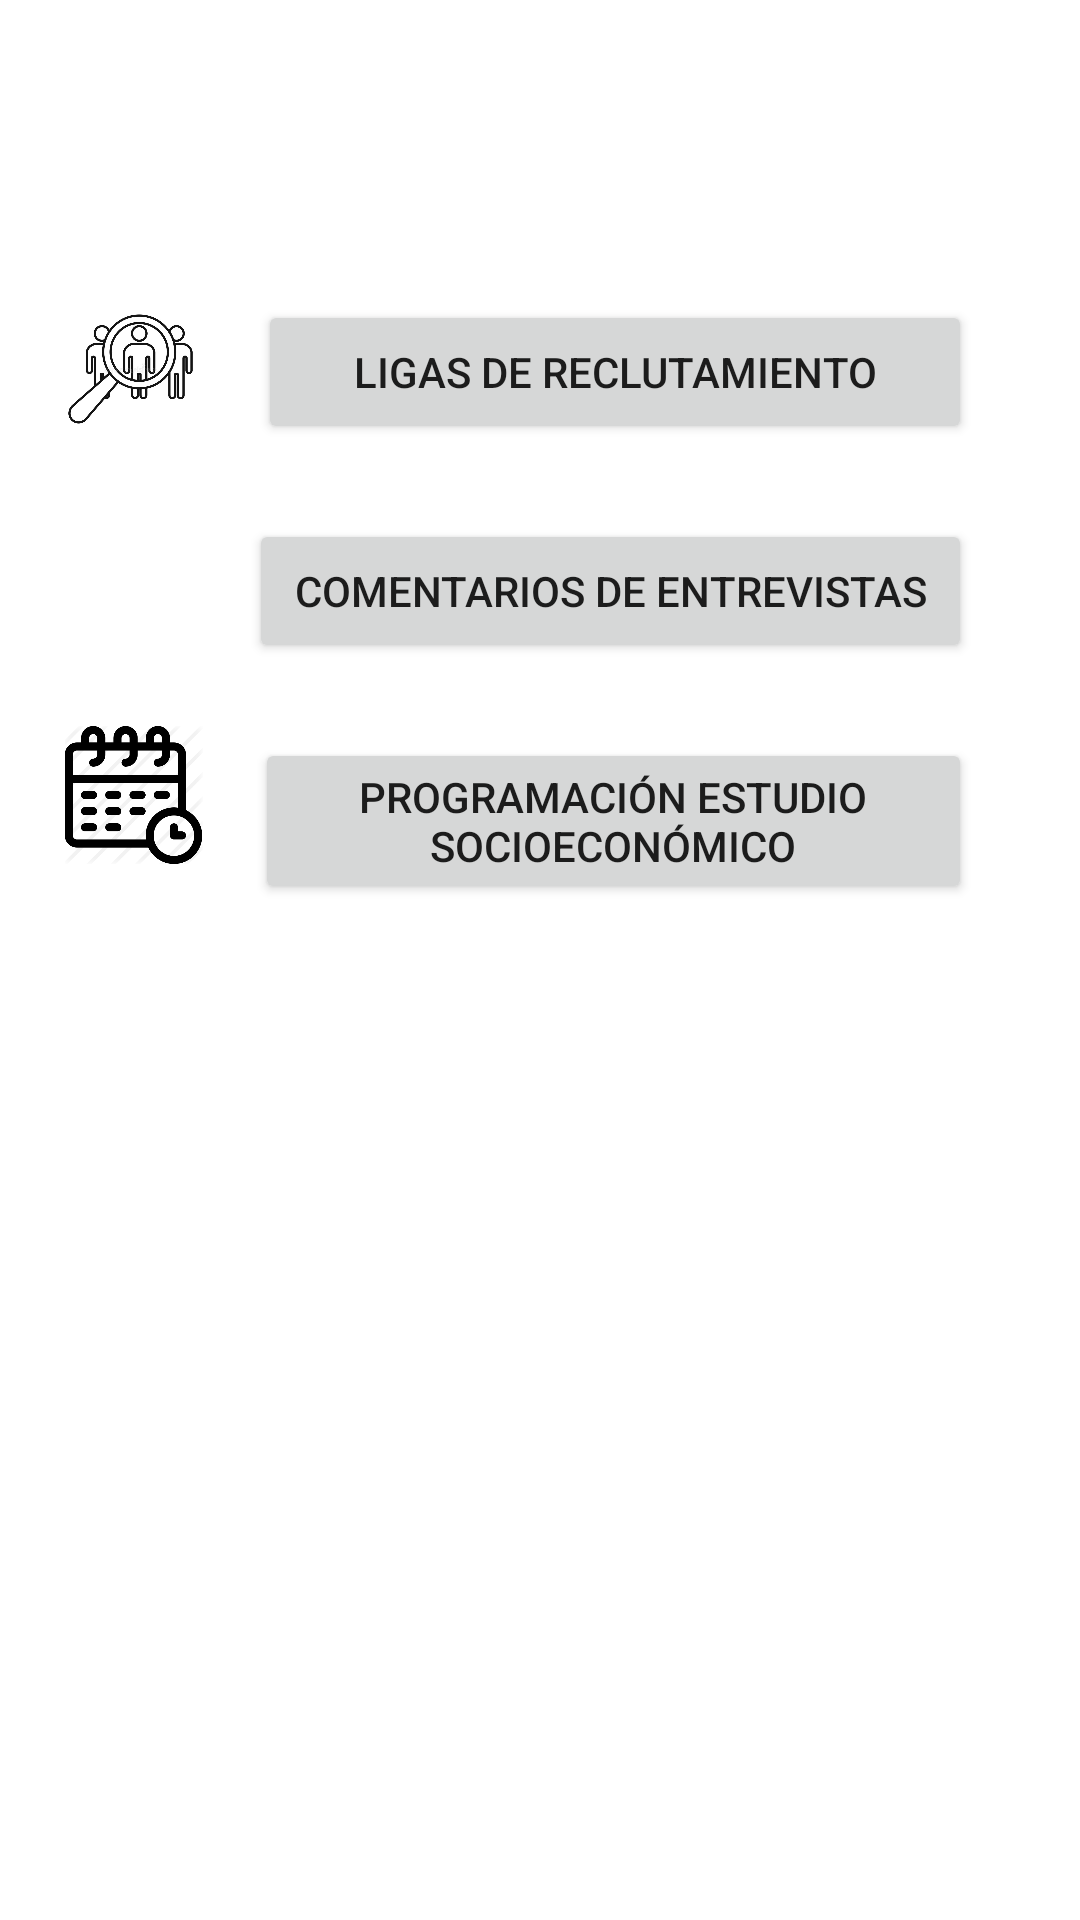

Screen size 1080x1920. Icon name, then its box in pixels as {"x1": x1, "y1": y1, "x2": x2, "y2": y2}:
programacion: {"x1": 65, "y1": 726, "x2": 202, "y2": 864}
